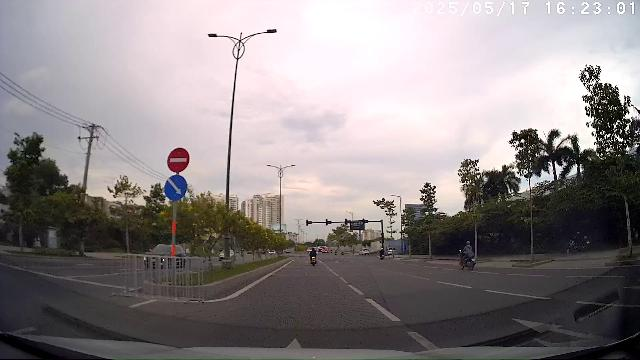102-cam-di-nguoc-chieu: (167, 148, 190, 172)
302a-huong-phai-di-vong-chuong-ngai-vat-1: (164, 175, 188, 201)
